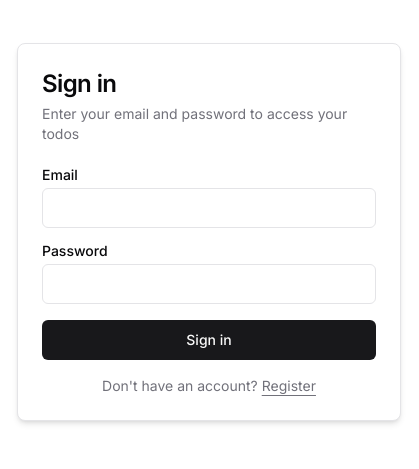
Test: LoginPage › shows server error when login rejects
Type "a@b.com" into the field labelled "Email". click: {"x": 209, "y": 208}
box: [42, 188, 376, 228]
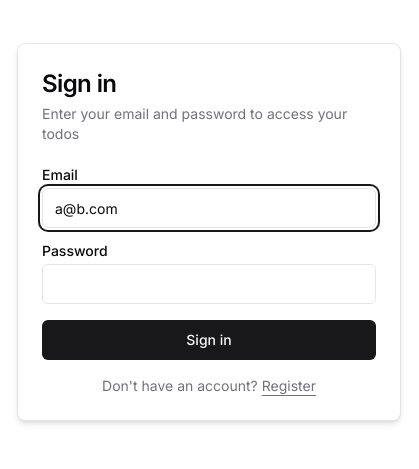
Type "wrongpassword" into the password field labelled "Password". click: {"x": 209, "y": 284}
box: [42, 264, 376, 304]
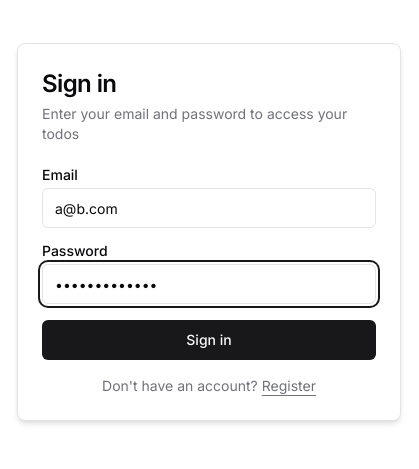
Click the button "Sign in". click: {"x": 209, "y": 340}
box: [42, 320, 376, 360]
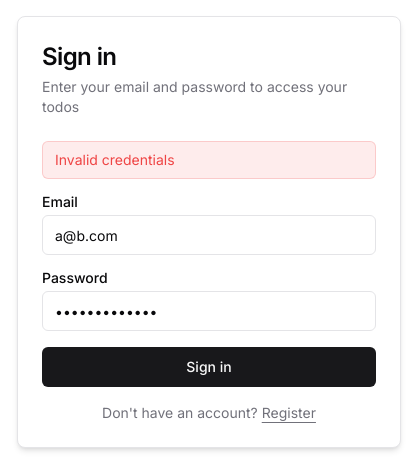
Expected: the text "Invalid credentials" is shown, [42, 141, 376, 179]
